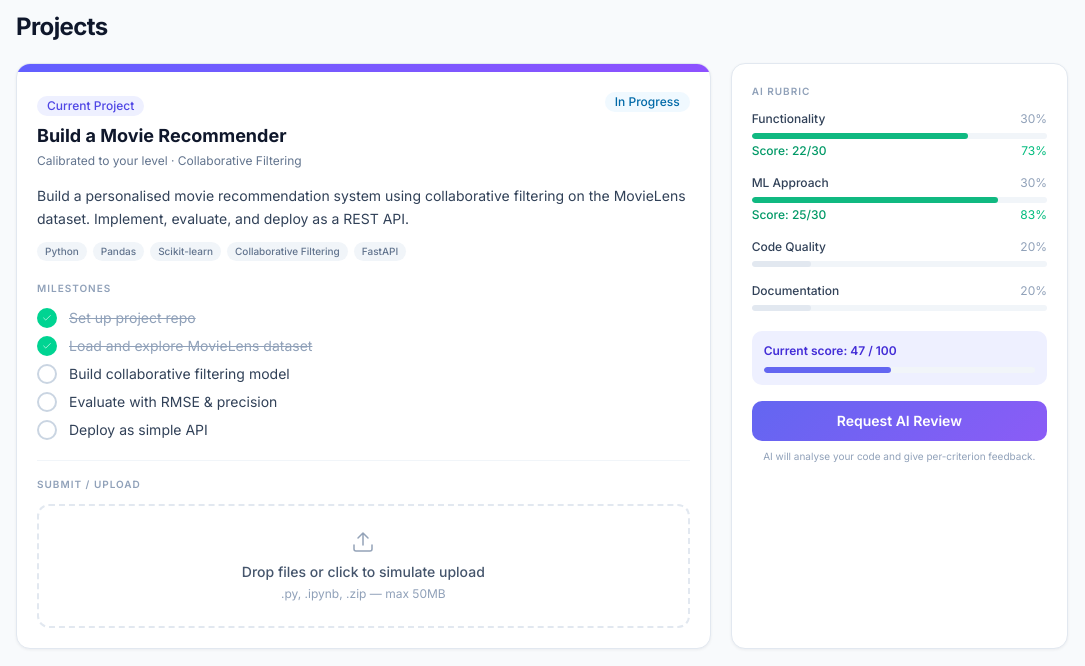
Scenario: Student Screens & Interactive Navigation Test Suite › Goal Roadmap, Projects, Mentor & Peer Learning › Projects supports requesting AI Review and updating rubric score
The width and height of the screenshot is (1085, 666).
expect the heading "Build a Movie Recommender" is shown: met, box left=37, top=124, right=302, bottom=149
expect the text "Current score: 47 / 100" is shown: met, box left=764, top=343, right=897, bottom=358
Click the button "Request AI Review": (899, 421) left=752, top=401, right=1047, bottom=441
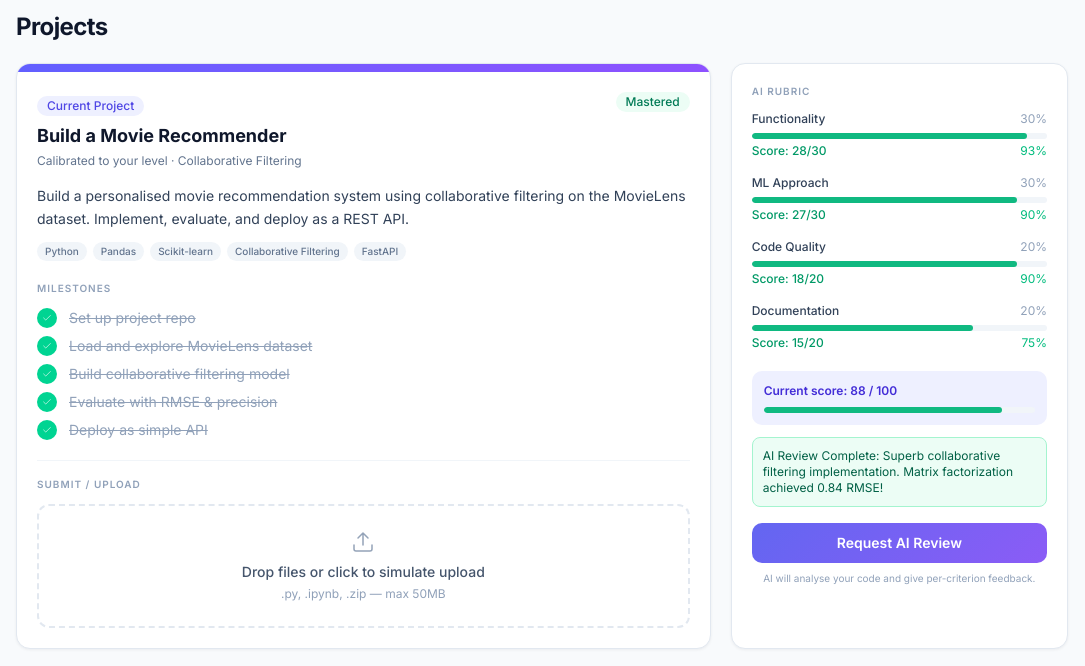
expect the text "AI Review Complete" is shown: met, box left=763, top=448, right=1013, bottom=495
expect the text "Current score: 88 / 100" is shown: met, box left=764, top=383, right=897, bottom=398
